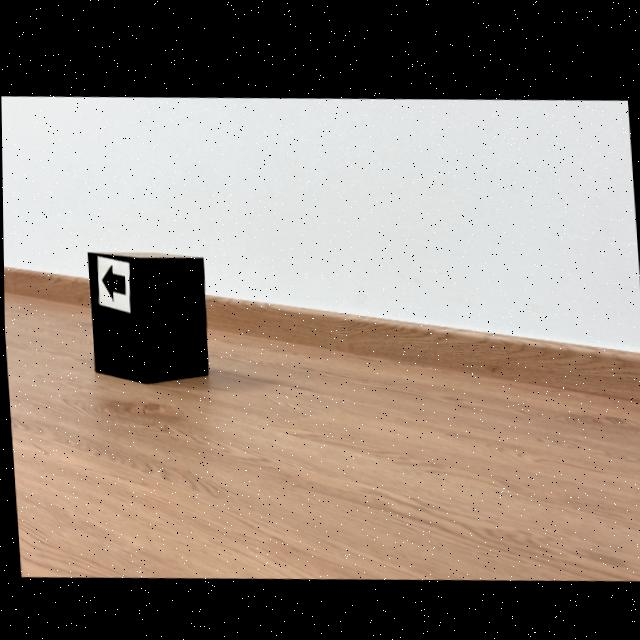LEFT: (101, 265, 125, 299)
